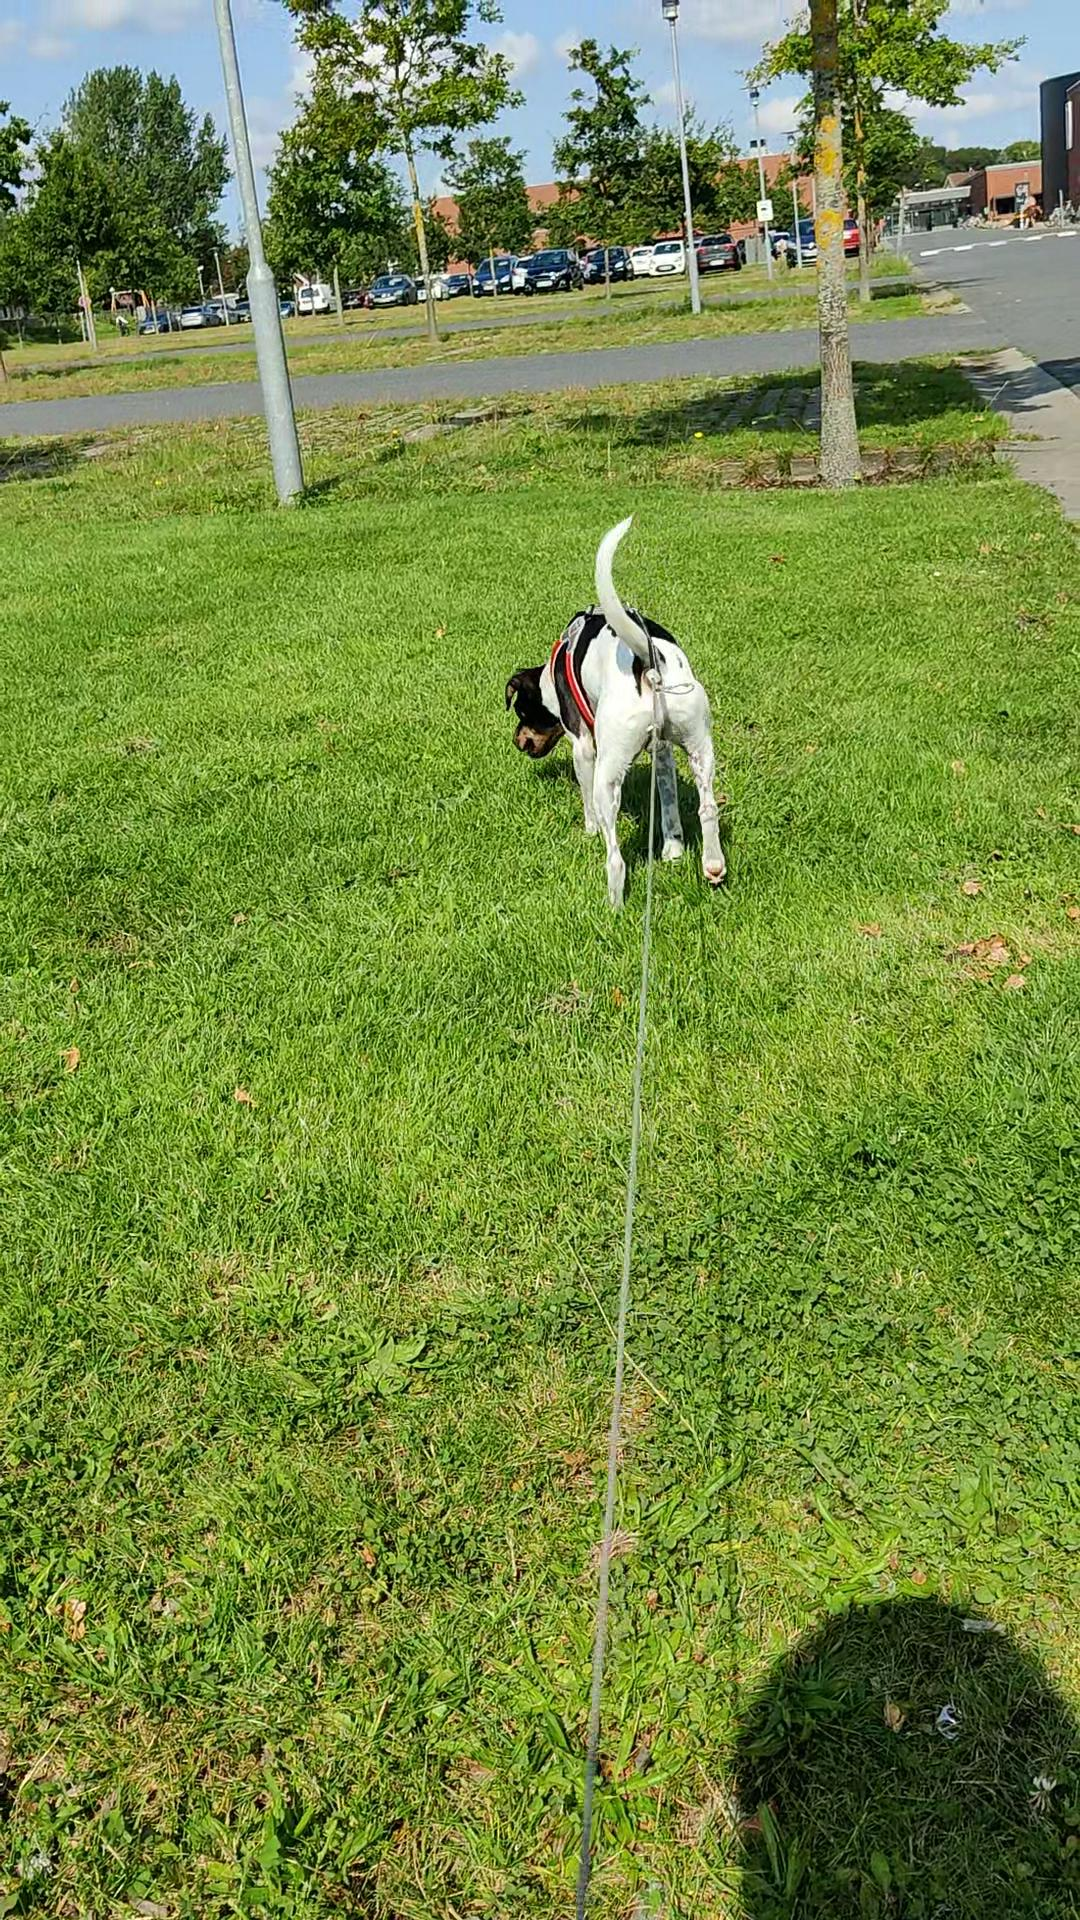Dog: (500, 512, 729, 915)
